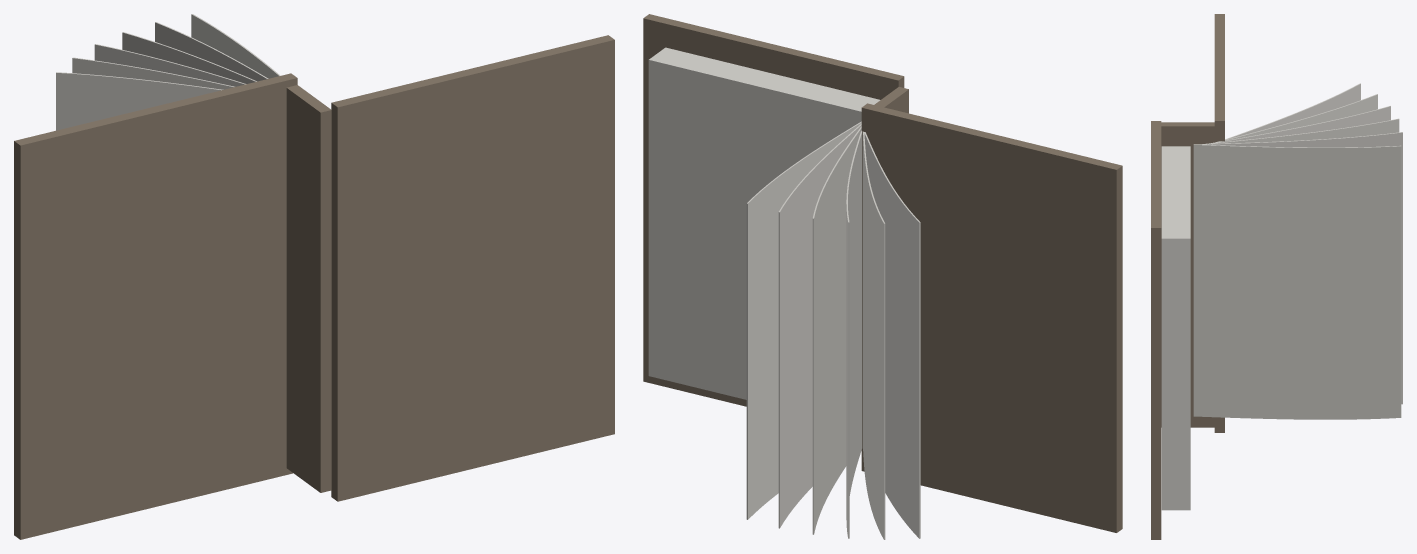
The model's file is Book.fbx.
3 renders of one model, left to right at view 1: azimuth 30°, elevation 25°; view 2: azimuth 150°, elevation 25°; view 3: azimuth 270°, elevation 25°, orthographic. The views are drawn at different scales.
Visible parts, largest first — view 1: Cover_Back, Cover_Front, Spine, Page_06, Page_04, Page_05, Page_03, Page_02, Page_01; view 2: Cover_Front, Pages_Block, Page_06, Page_02, Page_01, Page_03, Cover_Back, Page_05, Page_04, Spine; view 3: Page_01, Pages_Block, Cover_Back, Spine, Page_02, Cover_Front, Page_03, Page_04, Page_05, Page_06.
Part boxes in pixels (<box>): Cover_Back: <box>331,35,614,501</box>; Cover_Front: <box>14,73,297,539</box>; Spine: <box>286,85,331,492</box>; Page_06: <box>56,72,223,130</box>; Page_04: <box>94,44,246,86</box>; Page_05: <box>72,57,234,89</box>; Page_03: <box>122,32,256,83</box>; Page_02: <box>155,22,268,81</box>; Page_01: <box>191,14,280,78</box>; Cover_Front: <box>861,103,1122,532</box>; Pages_Block: <box>648,47,880,399</box>; Page_06: <box>860,123,920,538</box>; Page_02: <box>778,124,861,528</box>; Page_01: <box>746,121,861,519</box>; Page_03: <box>812,126,861,534</box>; Cover_Back: <box>643,14,904,406</box>; Page_05: <box>863,131,885,539</box>; Page_04: <box>846,130,862,538</box>; Spine: <box>874,87,908,113</box>; Page_01: <box>1193,144,1401,419</box>; Pages_Block: <box>1161,146,1190,510</box>; Cover_Back: <box>1151,121,1161,539</box>; Spine: <box>1161,122,1215,427</box>; Page_02: <box>1197,132,1402,404</box>; Cover_Front: <box>1214,14,1224,432</box>; Page_03: <box>1202,118,1399,144</box>; Page_04: <box>1207,106,1390,143</box>; Page_05: <box>1207,94,1377,144</box>; Page_06: <box>1211,83,1360,144</box>.
Bounding box in the file's own units: 250 × 170 × 124.
